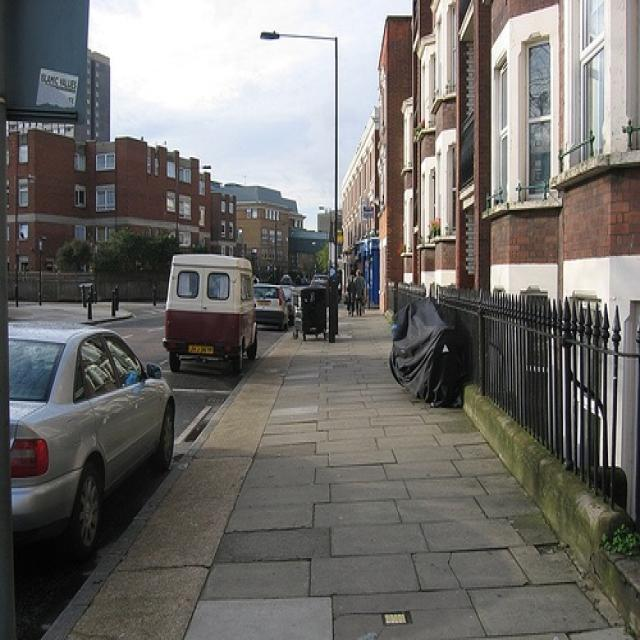car: (12, 319, 179, 553), (165, 252, 256, 374), (255, 289, 284, 331)
